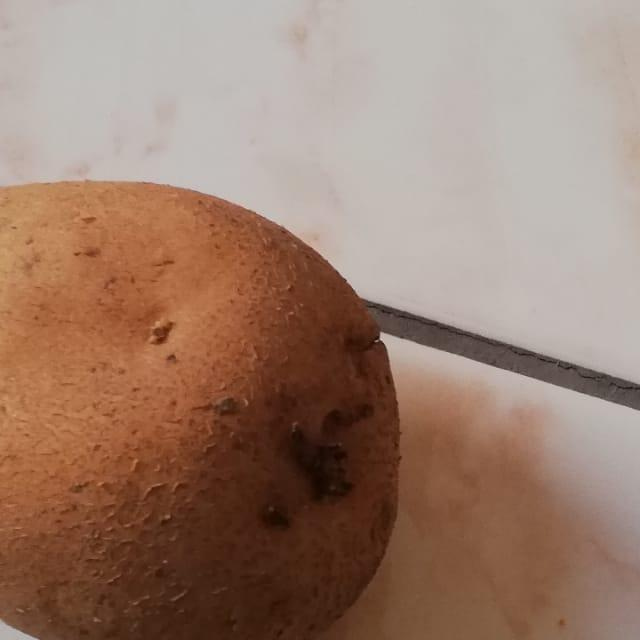potato: (0, 142, 411, 640)
